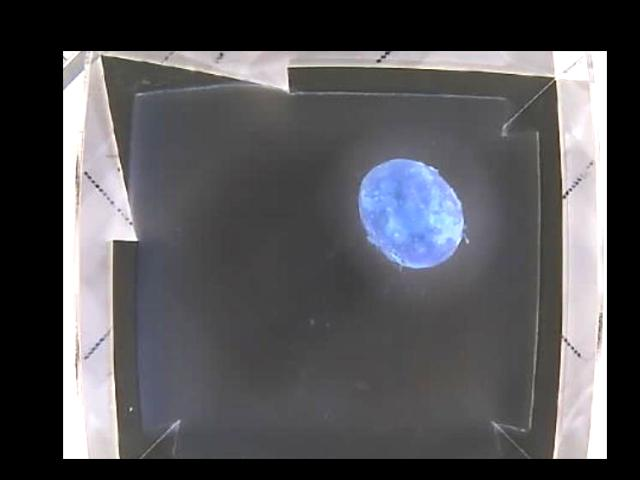Potato: (359, 159, 463, 267)
